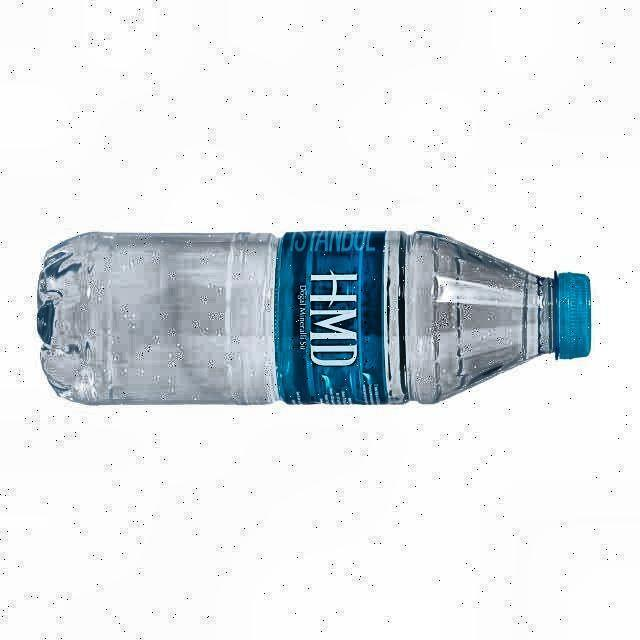plastic: (36, 230, 591, 404)
